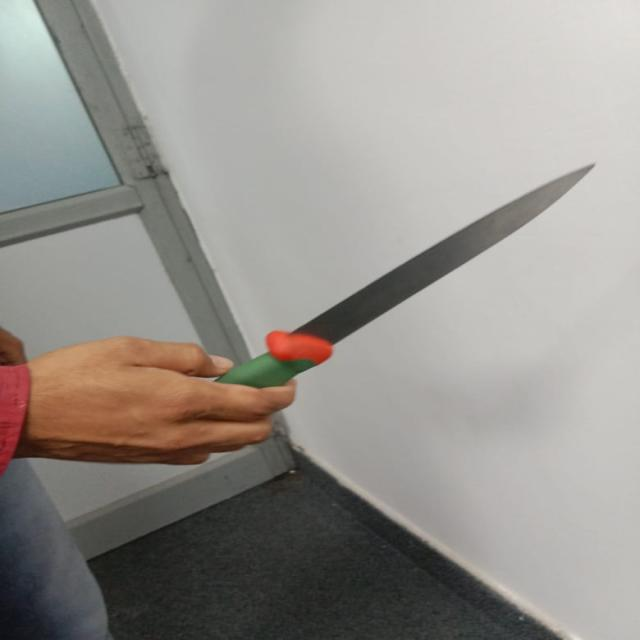Knife: (217, 165, 594, 389)
